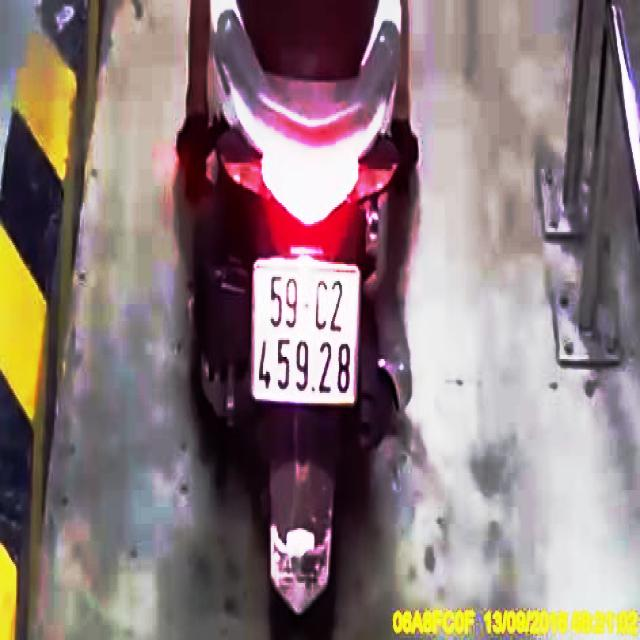license_plate: (256, 261, 362, 404)
